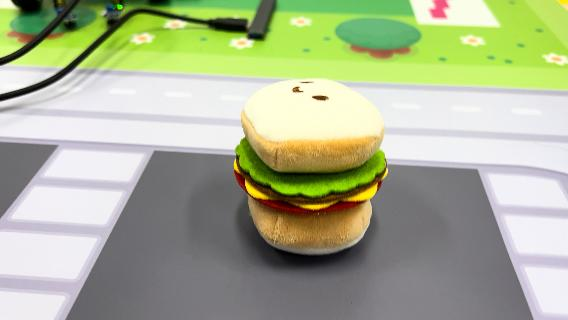sandwich: (231, 76, 391, 256)
